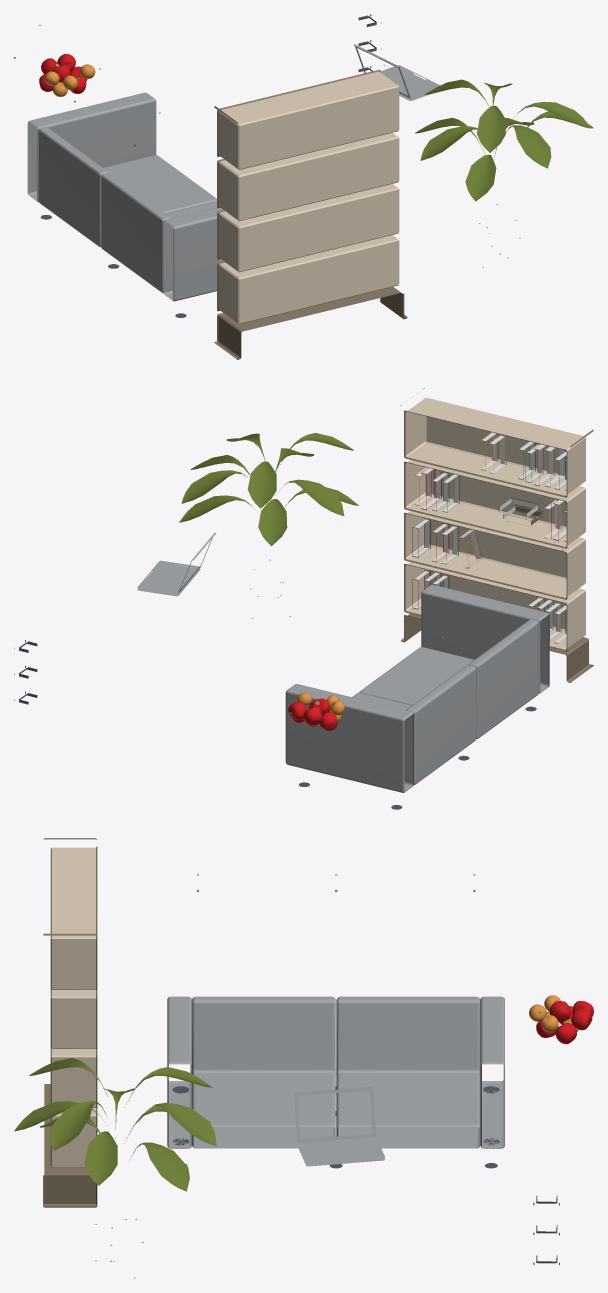
The model's file is object_4_lev1.glb.
3 views of the same model, one above another, from view 1: azimuth 30°, elevation 25°; view 2: azimuth 150°, elevation 25°; view 3: azimuth 270°, elevation 25° (orthographic). The views are drawn at different scales.
Parts seen in each view (by area): view 1: object_4_lev1; view 2: object_4_lev1; view 3: object_4_lev1.
Boxes of the visible parts, box(x1,y1,x2,y2) form: object_4_lev1: box(14, 14, 593, 359); object_4_lev1: box(14, 388, 593, 809); object_4_lev1: box(14, 838, 593, 1278).
Size of the model in its own units: 23.11 by 12.59 by 24.16.
Materials: 1 (1 with a texture image).
